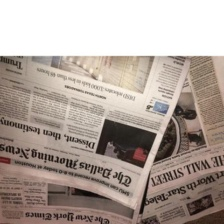news_paper: (0, 54, 195, 212), (131, 53, 224, 202), (0, 172, 150, 223), (136, 169, 224, 224)
